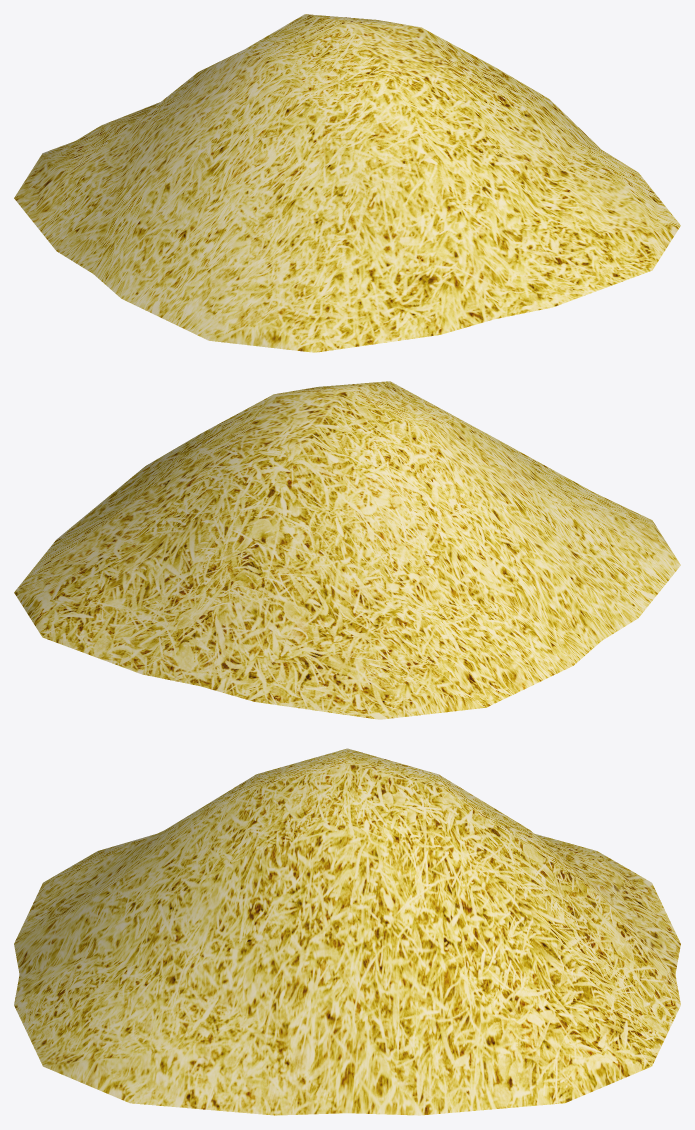
The model's file is Hay Stack 1.fbx.
3 views of the same model, one above another, from view 1: azimuth 30°, elevation 25°; view 2: azimuth 150°, elevation 25°; view 3: azimuth 270°, elevation 25° (orthographic). The views are drawn at different scales.
Parts seen in each view (by area): view 1: Hay; view 2: Hay; view 3: Hay.
Part boxes in pixels (x1,y1,x2,y2): Hay: (14, 14, 680, 352); Hay: (14, 381, 680, 719); Hay: (14, 748, 680, 1115).
Size of the model in its own units: 4.2 by 1.46 by 4.2.
